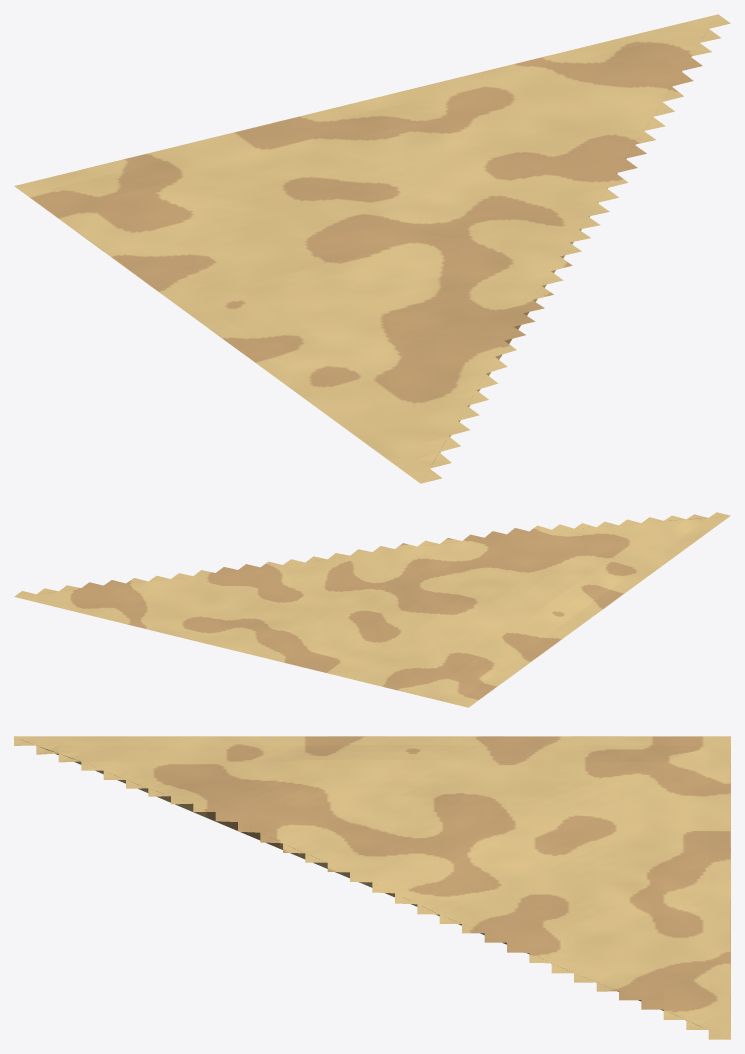
File: Desert_Flat_09_SW.obj
The picture shows the model from 3 angles, top to bottom: view 1: azimuth 30°, elevation 25°; view 2: azimuth 150°, elevation 25°; view 3: azimuth 270°, elevation 25°; orthographic projection. The views are drawn at different scales.
Bounding box in the file's own units: 10 × 0.1516 × 10.
Materials: 1 (1 with a texture image).
